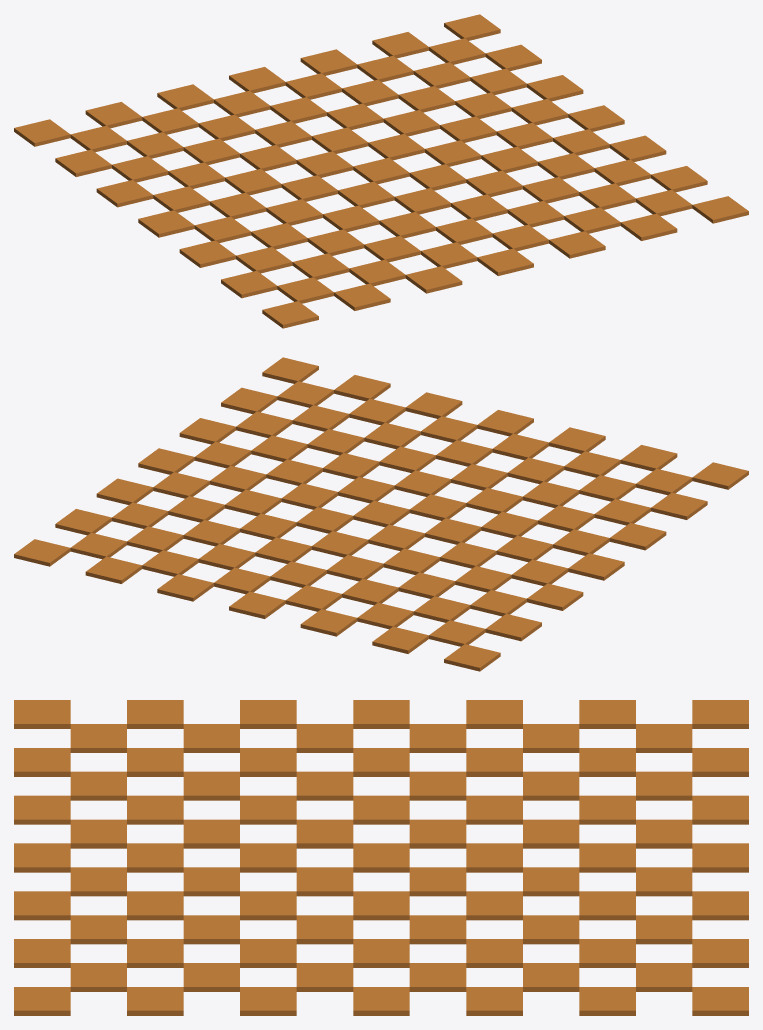
File: sand_tiles.obj
3 views of the same model, one above another, from view 1: azimuth 30°, elevation 25°; view 2: azimuth 150°, elevation 25°; view 3: azimuth 270°, elevation 25° (orthographic). The views are drawn at different scales.
Parts seen in each view (by area): view 1: mergedBlocks; view 2: mergedBlocks; view 3: mergedBlocks.
Part boxes in pixels (x1,y1,x2,y2): mergedBlocks: (14, 14, 748, 328); mergedBlocks: (14, 357, 748, 671); mergedBlocks: (14, 700, 748, 1015).
Size of the model in its own units: 13 by 0.1 by 13.
